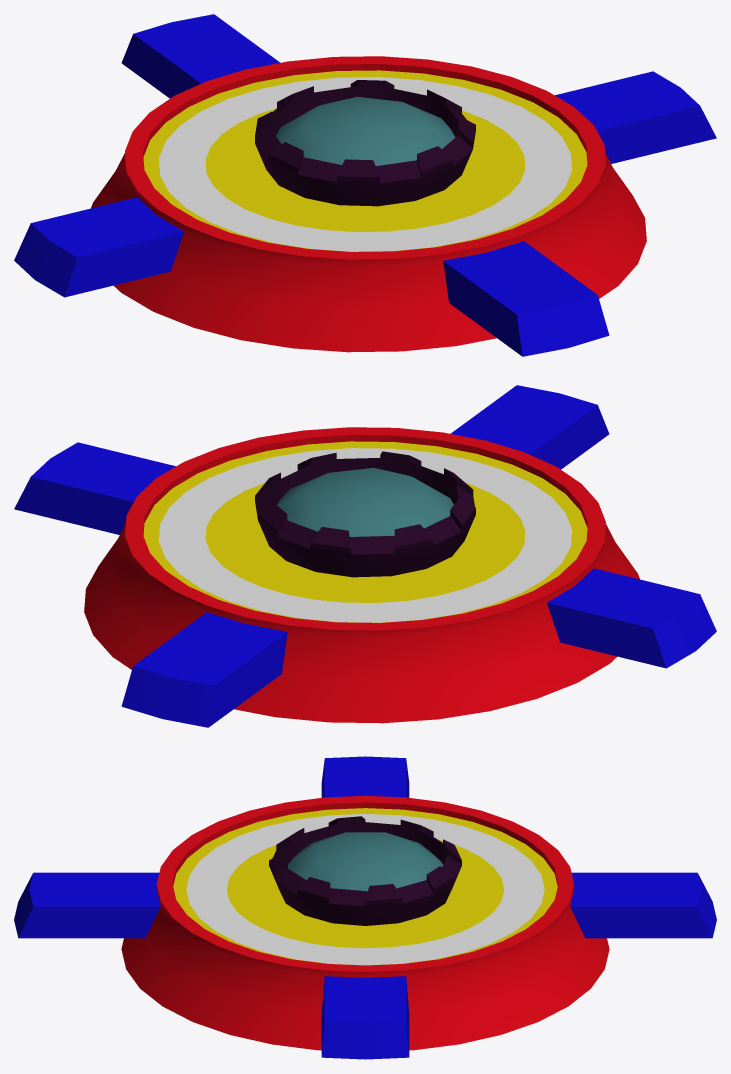
3 views of the same model, one above another, from view 1: azimuth 30°, elevation 25°; view 2: azimuth 150°, elevation 25°; view 3: azimuth 270°, elevation 25° (orthographic). The views are drawn at different scales.
Parts seen in each view (by area): view 1: PowerConductor.Platform.lp, PowerConductor.SpinnerRing; view 2: PowerConductor.Platform.lp, PowerConductor.SpinnerRing; view 3: PowerConductor.Platform.lp, PowerConductor.SpinnerRing.
Part boxes in pixels (x1,y1,x2,y2): PowerConductor.Platform.lp: (14, 14, 716, 356); PowerConductor.SpinnerRing: (159, 77, 571, 251); PowerConductor.Platform.lp: (14, 385, 716, 727); PowerConductor.SpinnerRing: (159, 448, 571, 622); PowerConductor.Platform.lp: (14, 756, 716, 1059); PowerConductor.SpinnerRing: (186, 814, 544, 965).
Size of the model in its own units: 30.33 by 5.09 by 32.27.
